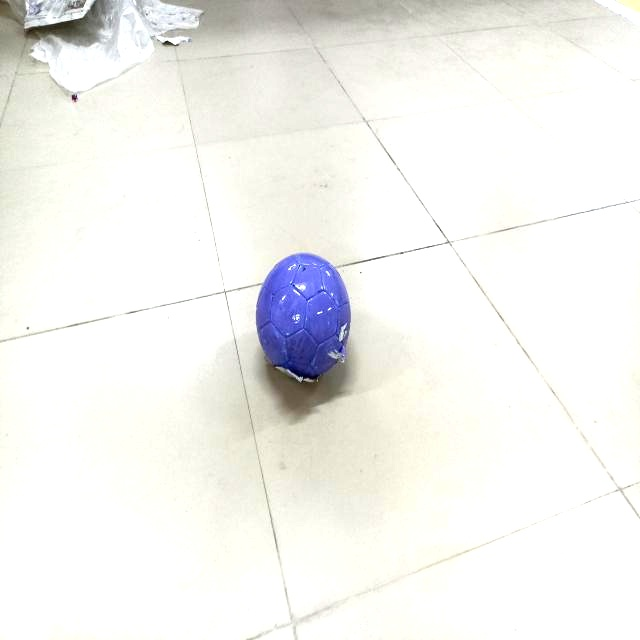purple_ball: (256, 252, 349, 375)
